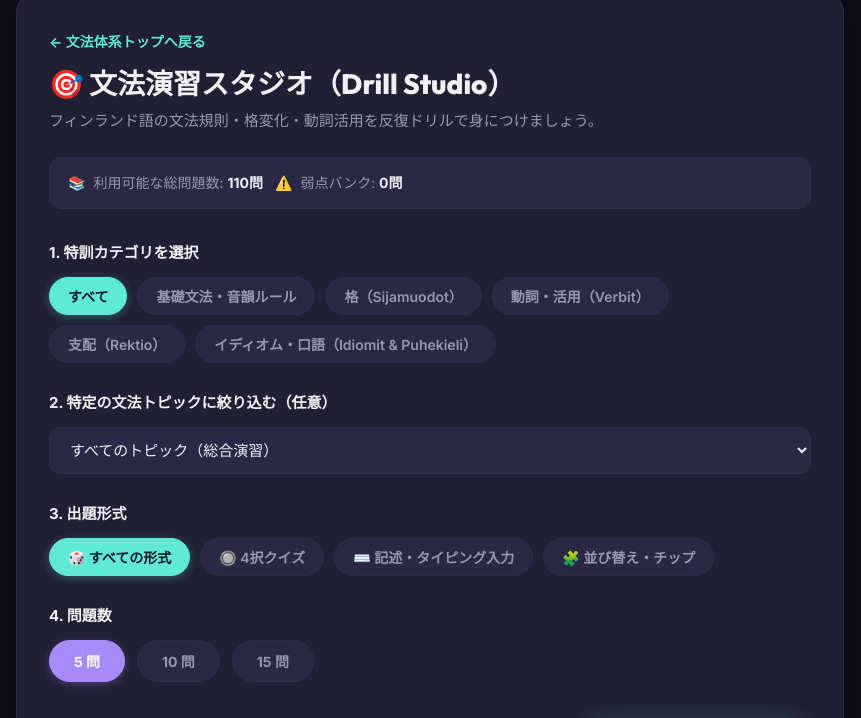
GrammarPractice Component › records incorrect answers to mistake bank in localStorage
# Typing question test
Click the button "⌨️ 記述・タイピング入力" at (434, 557), box [334,538,533,576]
(page scrolled)
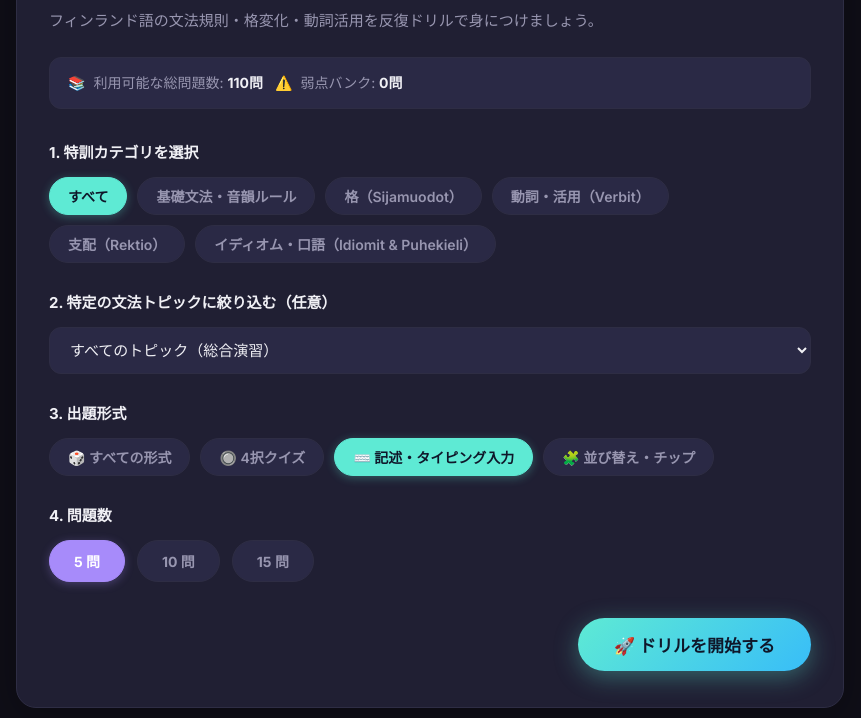
Click the button "🚀 ドリルを開始する" at (694, 644), box [578,618,811,671]
(page scrolled)
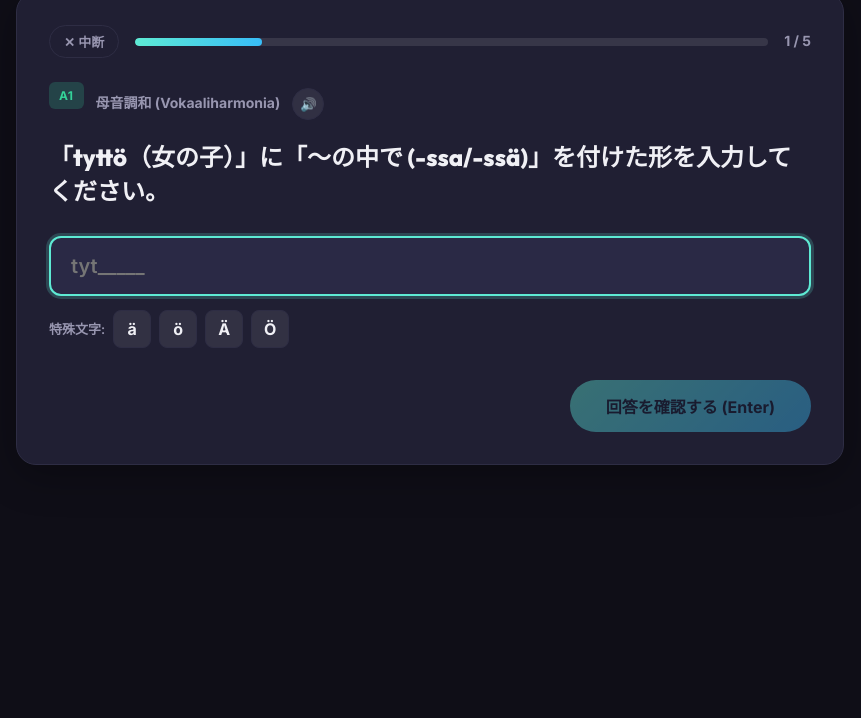
Type "definitely_wrong_answer_xyz" into the field at (430, 266), box [49,236,811,296]
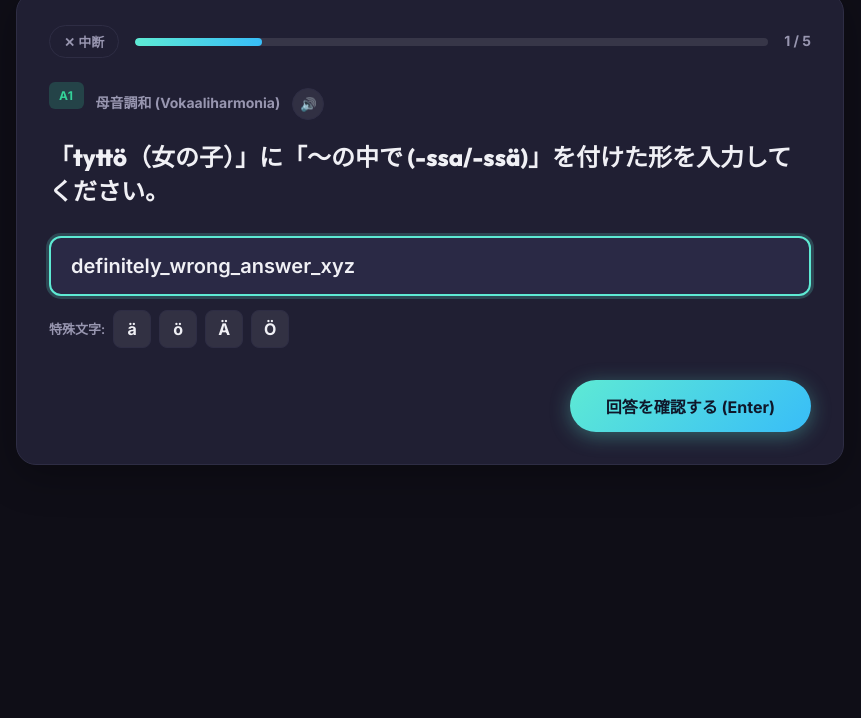
Click the button "回答を確認する (Enter)" at (690, 406), box [570,380,811,432]
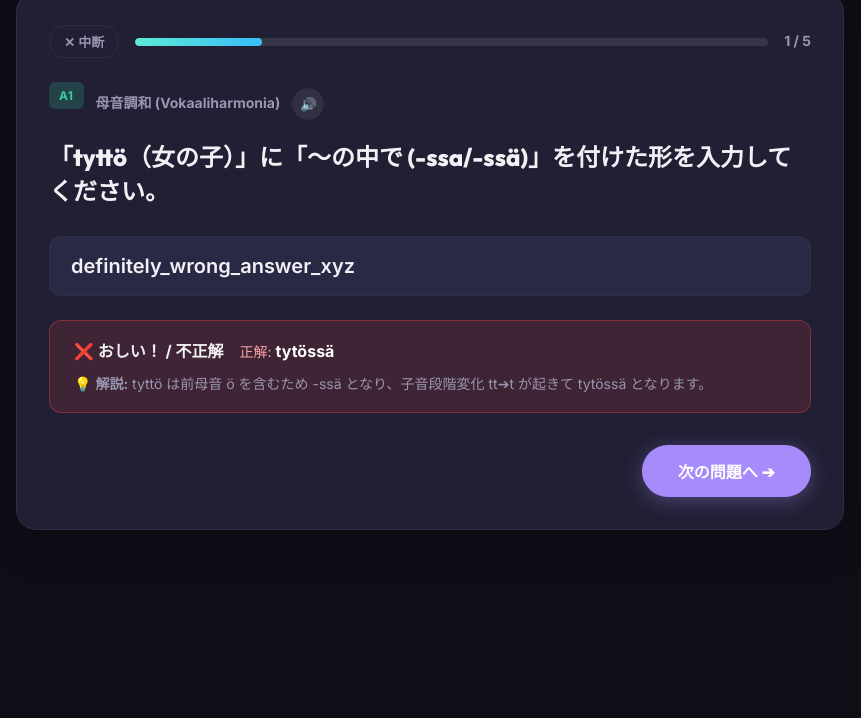
Expected: the text "❌ おしい！ / 不正解" is shown, [74,339,224,365]
